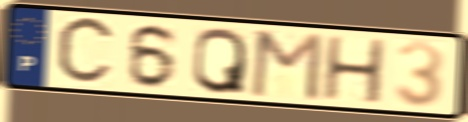3: (392, 37, 447, 111)
6: (127, 22, 180, 90)
C: (53, 13, 118, 90)
H: (319, 35, 387, 106)
M: (247, 28, 326, 103)
Q: (189, 25, 249, 96)
